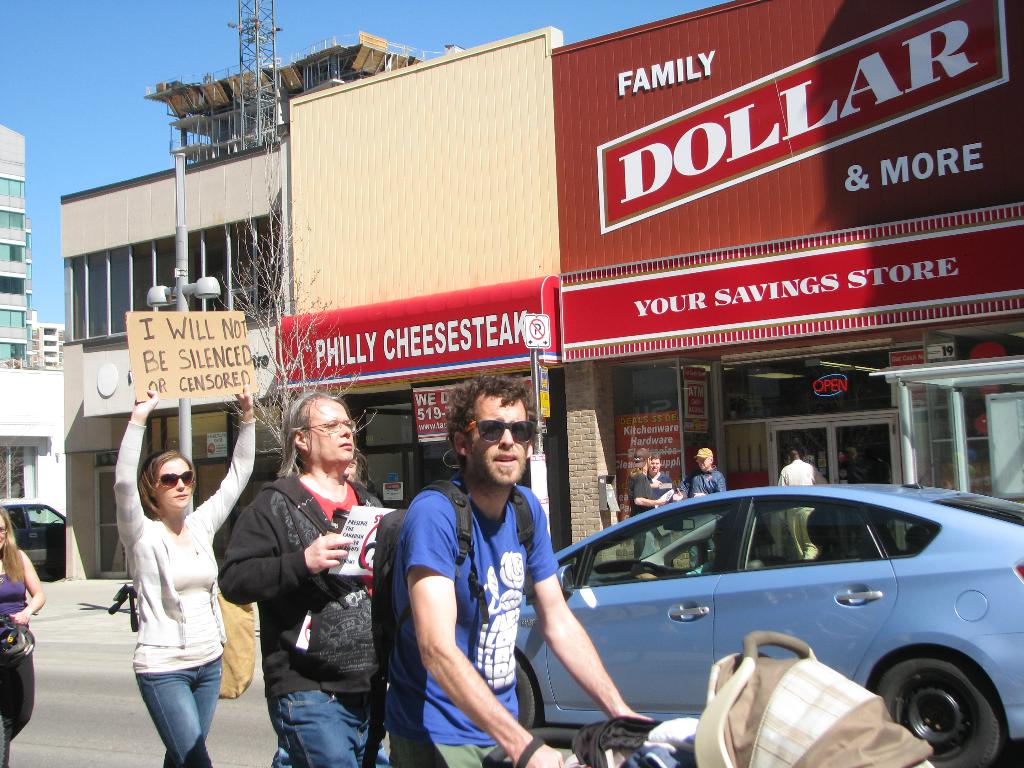Car: (513, 457, 1023, 767), (0, 502, 65, 580)
